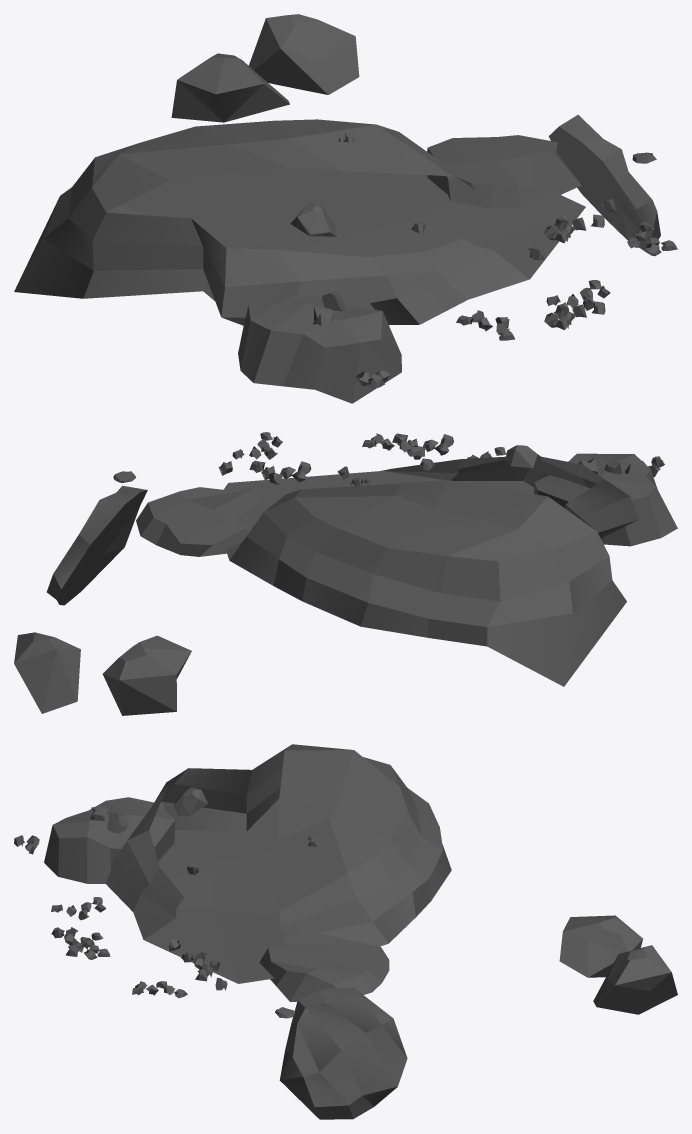
File: Rocks.obj
3 renders of one model, top to bottom at view 1: azimuth 30°, elevation 25°; view 2: azimuth 150°, elevation 25°; view 3: azimuth 270°, elevation 25°, orthographic. The views are drawn at different scales.
Parts seen in each view (by area): view 1: Rock; view 2: Rock; view 3: Rock.
Part boxes in pixels (x1,y1,x2,y2): Rock: [14, 14, 677, 403]; Rock: [14, 432, 677, 715]; Rock: [14, 744, 677, 1119].
Bounding box in the file's own units: 69.15 × 23.54 × 82.45.
Materials: 1 (1 with a texture image).
